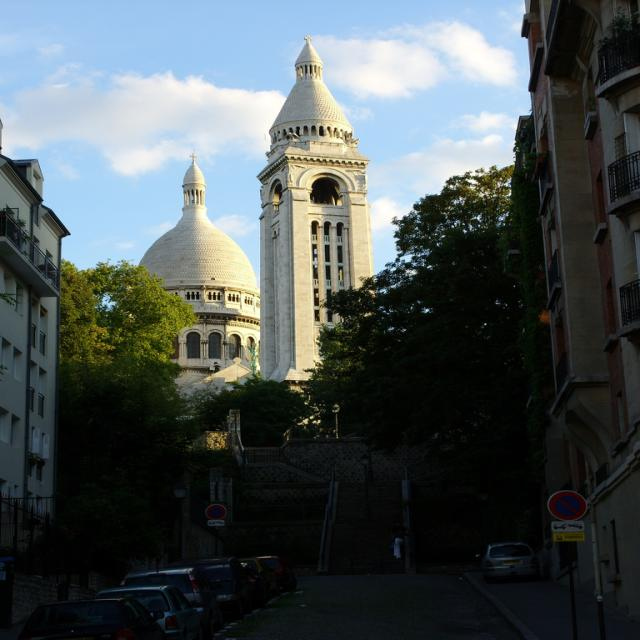People: (384, 520, 425, 572)
car: (126, 539, 232, 640), (217, 519, 313, 624), (97, 570, 200, 640), (44, 588, 142, 640), (479, 529, 549, 601)
